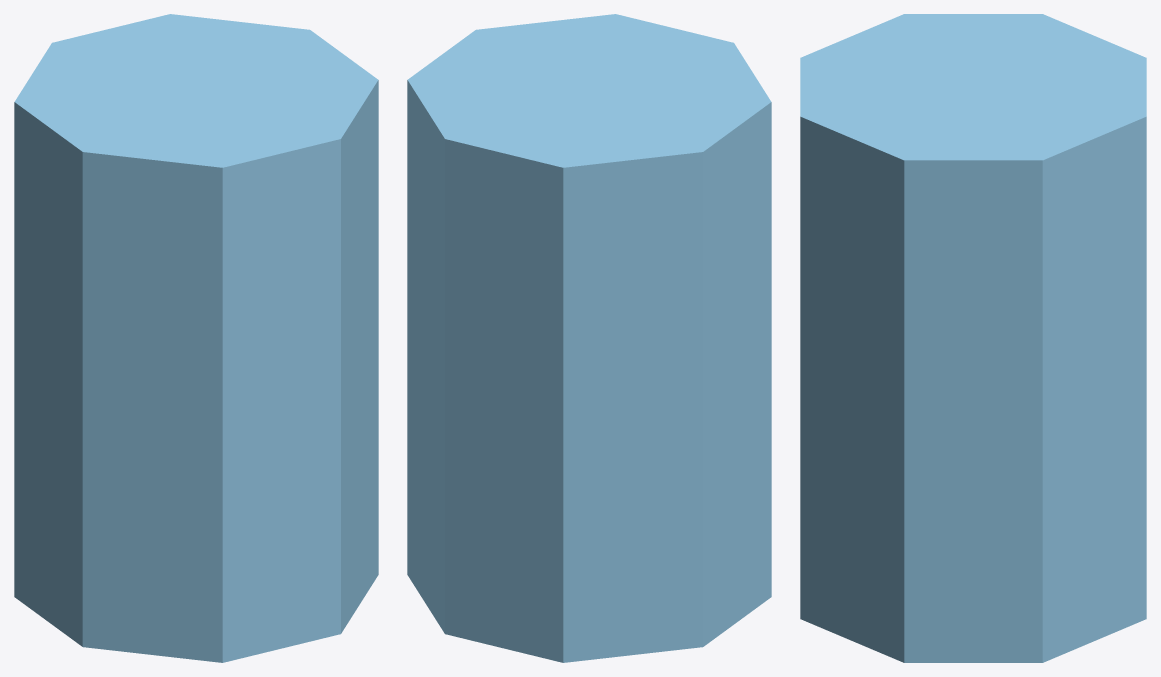
Rendered from crystal_column.obj.
3 views of the same model, side by side, from view 1: azimuth 30°, elevation 25°; view 2: azimuth 150°, elevation 25°; view 3: azimuth 270°, elevation 25° (orthographic).
Bounding box in the file's own units: 0.625 × 1 × 0.625.
